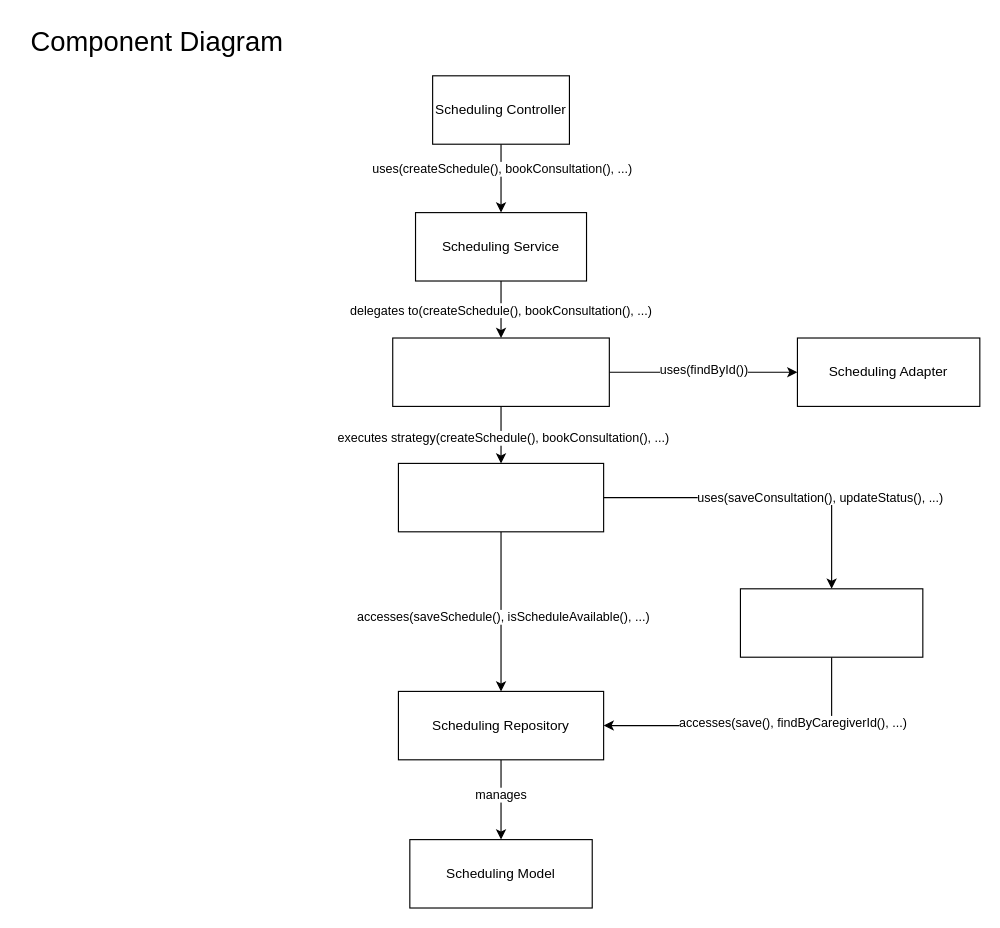
This 1000x928 diagram has some shape labels left out. The box of each missing label's shape, as (x1, y1, x2, y2) in pixels:
Consultation Service: (739, 588, 923, 657)
Scheduling Context: (392, 337, 609, 406)
Scheduling Strategy: (397, 462, 604, 532)
